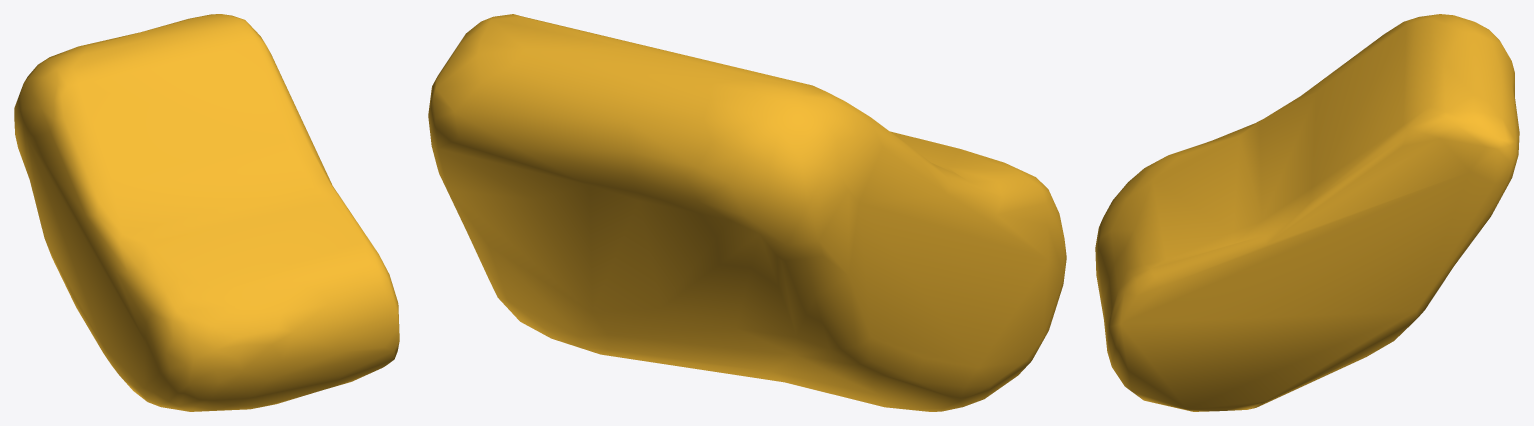
Rendered from nervoso-optic-chiasm-r.glb.
3 views of the same model, side by side, from view 1: azimuth 30°, elevation 25°; view 2: azimuth 150°, elevation 25°; view 3: azimuth 270°, elevation 25° (orthographic). The views are drawn at different scales.
Parts seen in each view (by area): view 1: Optic chiasm.r; view 2: Optic chiasm.r; view 3: Optic chiasm.r.
Part boxes in pixels (bbox=[...]): Optic chiasm.r: bbox=[14, 14, 399, 411]; Optic chiasm.r: bbox=[428, 14, 1066, 411]; Optic chiasm.r: bbox=[1095, 14, 1519, 411].
Size of the model in its own units: 0.00711 by 0.00785 by 0.01.
